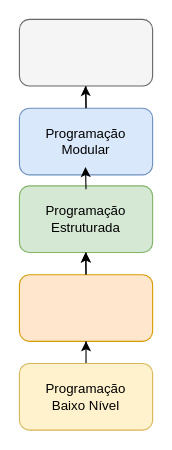
Some shapes in this 172 by 450 pixel diagram are drawn without their labels. Each missing label, with the centre of its shape:
POO (Programação Orientada a Objetos): point (85, 52)
Programação Linear: point (85, 307)
